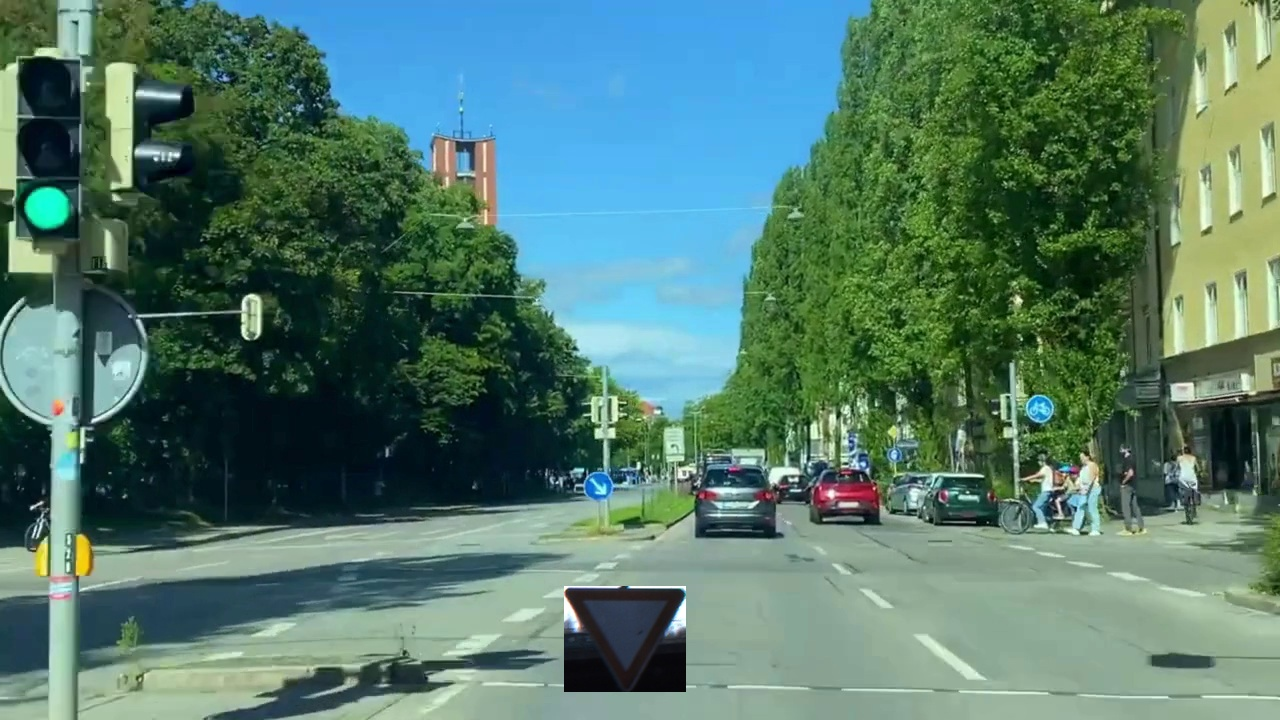Yield: (564, 586, 686, 692)
